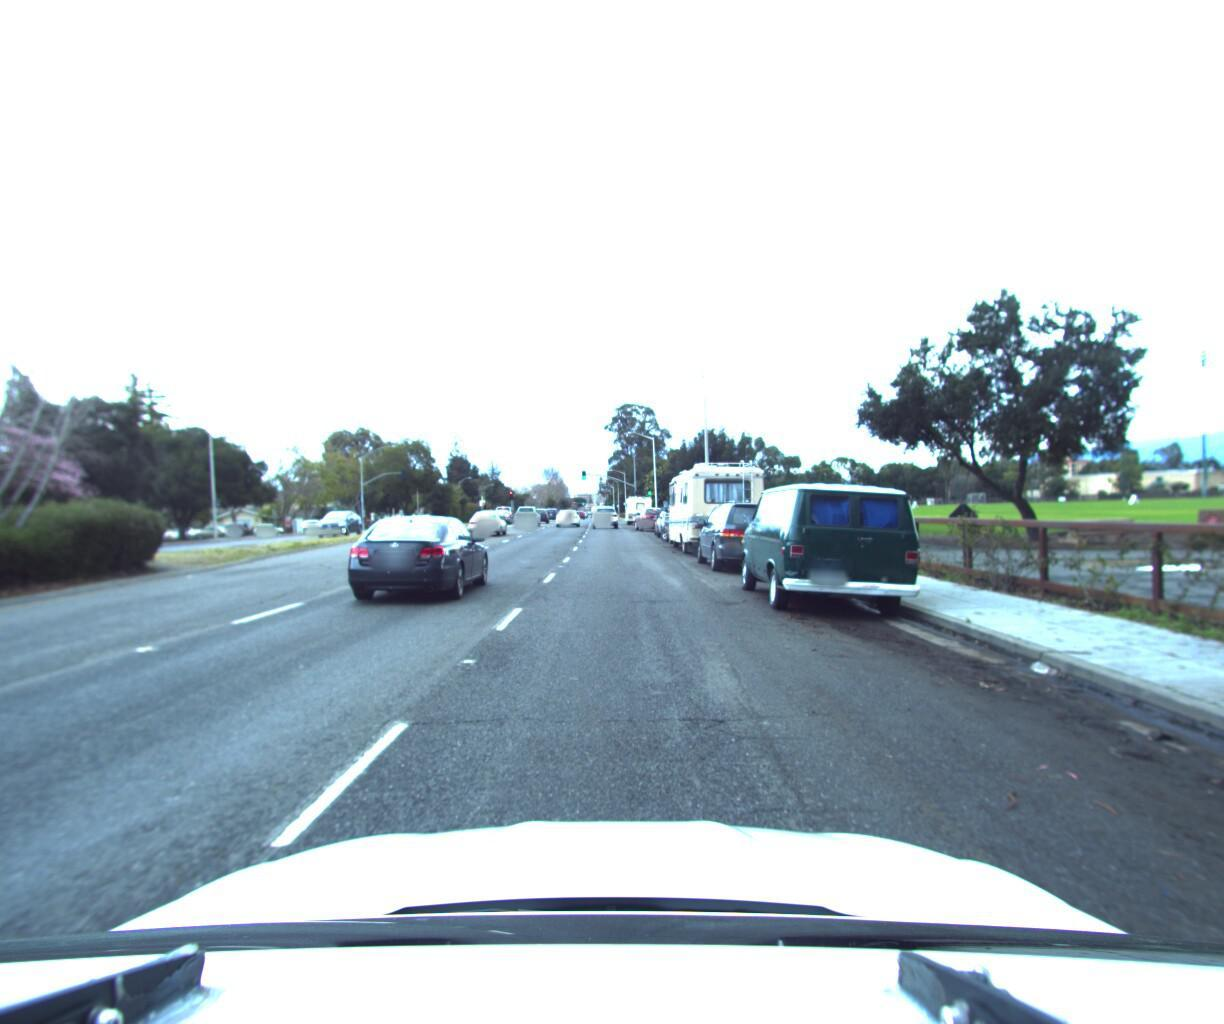car: (734, 471, 932, 625), (315, 509, 492, 612), (691, 495, 804, 574), (662, 492, 722, 542), (464, 507, 512, 544), (311, 514, 368, 543), (629, 506, 667, 531), (587, 505, 619, 531), (511, 506, 542, 529), (550, 508, 580, 530)
other_vehicle: (665, 449, 772, 555), (624, 488, 654, 522)
